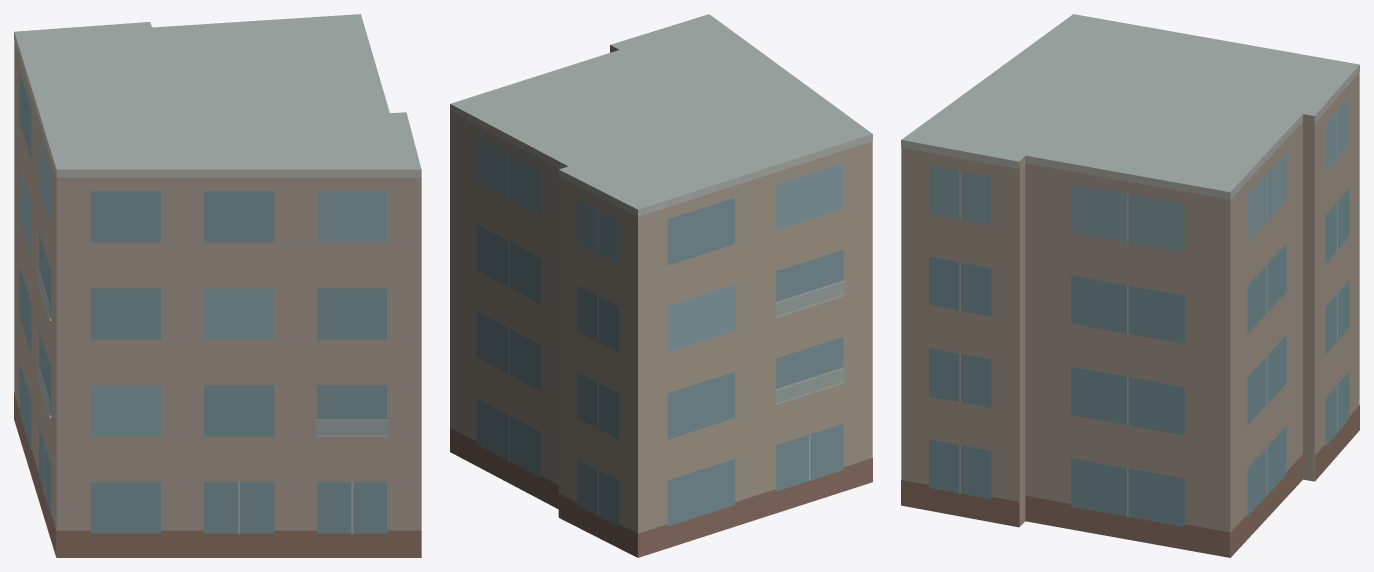
File: survey-upis-32870934.glb
3 renders of one model, left to right at view 1: azimuth 30°, elevation 25°; view 2: azimuth 150°, elevation 25°; view 3: azimuth 270°, elevation 25°, orthographic. The views are drawn at different scales.
Parts seen in each view (by area): view 1: survey-upis-32870934.tmp; view 2: survey-upis-32870934.tmp; view 3: survey-upis-32870934.tmp.
Boxes of the visible parts, x1=… form: survey-upis-32870934.tmp: x1=14, y1=14, x2=421, y2=557; survey-upis-32870934.tmp: x1=450, y1=14, x2=872, y2=557; survey-upis-32870934.tmp: x1=901, y1=14, x2=1359, y2=557.
Bounding box in the file's own units: 12.34 × 11.79 × 13.41.
